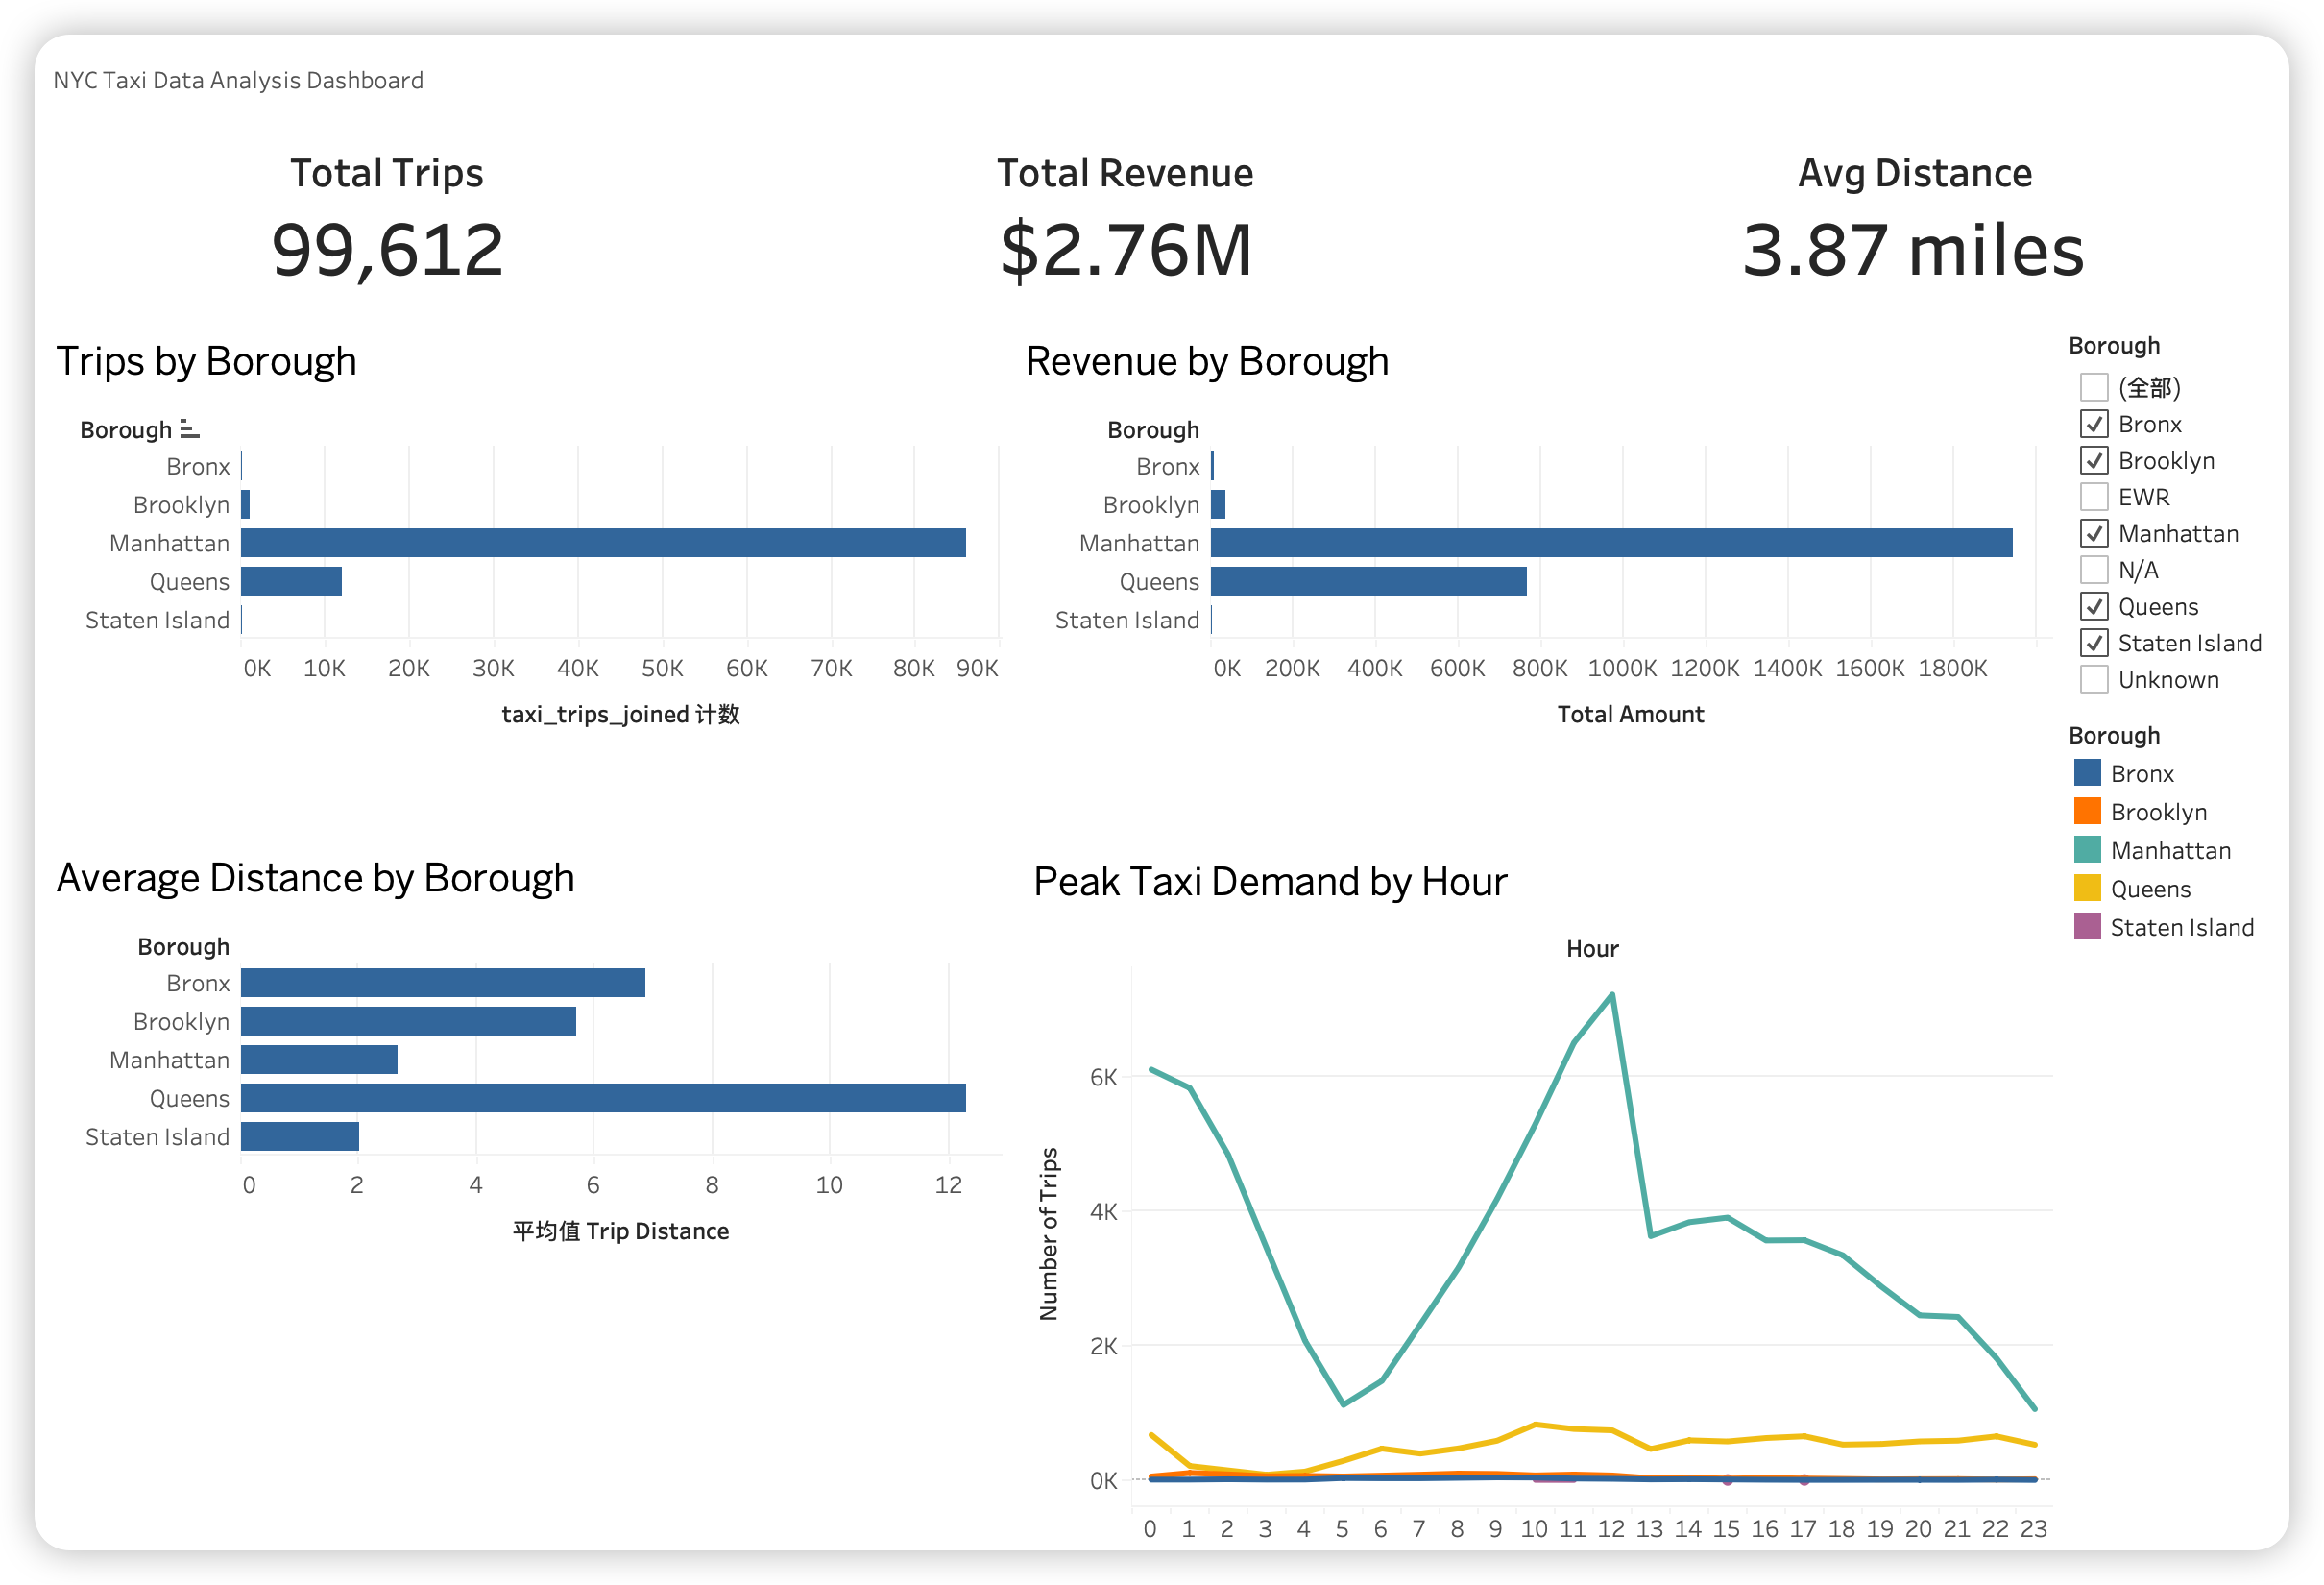

Layout of this report page (visuals, bound fields, positions):
{"tool":"tableau","page":{"name":"NYC Taxi Data Analysis Dashboard","canvas":[1200,800],"ordinal":0},"visuals":[{"type":"text","box":[8,8,1184,32]},{"type":"worksheet","title":"KPI - Total Trips","mark":"Text","box":[8,40,363,110]},{"type":"worksheet","title":"KPI - Total Revenue","mark":"Text","box":[371,40,406,110]},{"type":"worksheet","title":"KPI - Avg Distance","mark":"Text","box":[777,40,415,110]},{"type":"worksheet","title":"Total Trips","mark":"Automatic","rows":["borough"],"cols":["taxi_trips_joined_F0D1A30DACE148B6988A7986ED3D42AA"],"box":[8,150,504.7,268.7]},{"type":"worksheet","title":"Total Revenue ","mark":"Automatic","rows":["borough"],"cols":["total_amount"],"box":[512.7,150,547.3,268.7]},{"type":"filter","title":"Total Trips","param":"[federated.1cgfj351yr235f11vabam055rtqm].[none:borough:nk]","box":[1060,150,132,203]},{"type":"legend","title":"Peak Hours ","param":"[federated.1cgfj351yr235f11vabam055rtqm].[none:borough:nk]","box":[1060,353,132,126]},{"type":"worksheet","title":"Avg Trip Distance","mark":"Automatic","rows":["borough"],"cols":["trip_distance"],"box":[8,418.7,504.7,373.3]},{"type":"worksheet","title":"Peak Hours ","mark":"Line","rows":["taxi_trips_joined_F0D1A30DACE148B6988A7986ED3D42AA"],"cols":["Calculation_0701411408912388"],"box":[512.7,418.7,547.3,373.3]}]}

Visuals, with their boxes in screenshot pixels (x1, y1, x2, y2), scaled from the page's 1200x800 canvas onto the 2324x1585 screenshot:
text: (left=15, top=15, right=2309, bottom=79)
"KPI - Total Trips" worksheet (Text marks): (left=15, top=79, right=718, bottom=297)
"KPI - Total Revenue" worksheet (Text marks): (left=718, top=79, right=1505, bottom=297)
"KPI - Avg Distance" worksheet (Text marks): (left=1505, top=79, right=2309, bottom=297)
"Total Trips" worksheet: (left=15, top=297, right=993, bottom=830)
"Total Revenue " worksheet: (left=993, top=297, right=2053, bottom=830)
"Total Trips" filter: (left=2053, top=297, right=2309, bottom=699)
"Peak Hours " legend: (left=2053, top=699, right=2309, bottom=949)
"Avg Trip Distance" worksheet: (left=15, top=830, right=993, bottom=1570)
"Peak Hours " worksheet (Line marks): (left=993, top=830, right=2053, bottom=1570)
